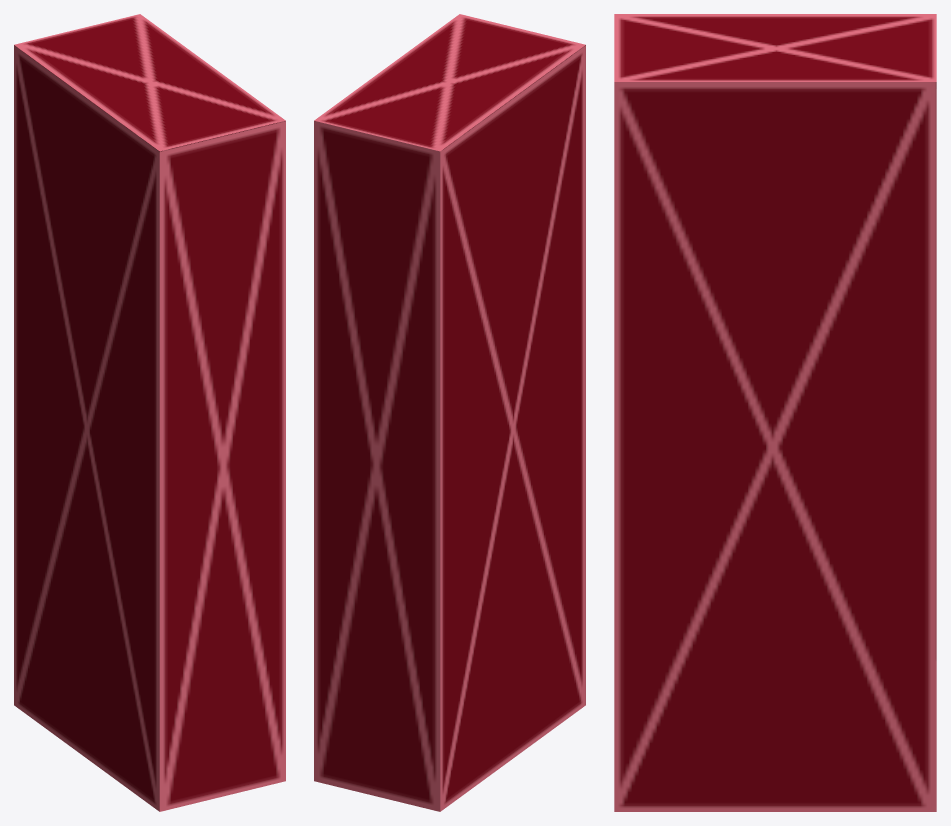
File: obstacle.fbx
3 renders of one model, left to right at view 1: azimuth 30°, elevation 25°; view 2: azimuth 150°, elevation 25°; view 3: azimuth 270°, elevation 25°, orthographic. The views are drawn at different scales.
Parts seen in each view (by area): view 1: Cube; view 2: Cube; view 3: Cube.
Boxes of the visible parts, <box> form: Cube: <box>14,14,285,811</box>; Cube: <box>314,14,585,811</box>; Cube: <box>614,14,936,811</box>.
Bounding box in the file's own units: 100 × 500 × 200.
